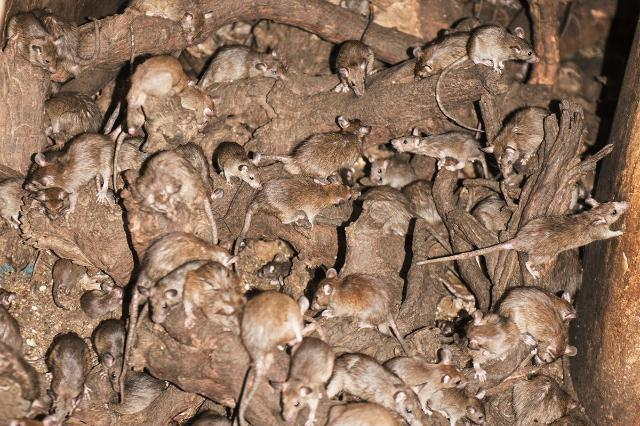rat: (484, 194, 640, 276), (304, 264, 426, 362), (17, 124, 121, 220), (319, 345, 425, 426), (231, 285, 311, 389), (112, 49, 194, 145), (266, 109, 374, 179), (250, 176, 368, 238), (384, 115, 488, 184), (267, 336, 341, 426), (188, 38, 302, 94), (382, 344, 472, 410), (478, 102, 554, 180), (40, 328, 100, 426), (462, 18, 544, 89), (314, 30, 388, 106), (2, 9, 68, 79), (206, 132, 270, 200), (87, 312, 133, 404), (401, 31, 479, 85), (136, 268, 194, 330)
